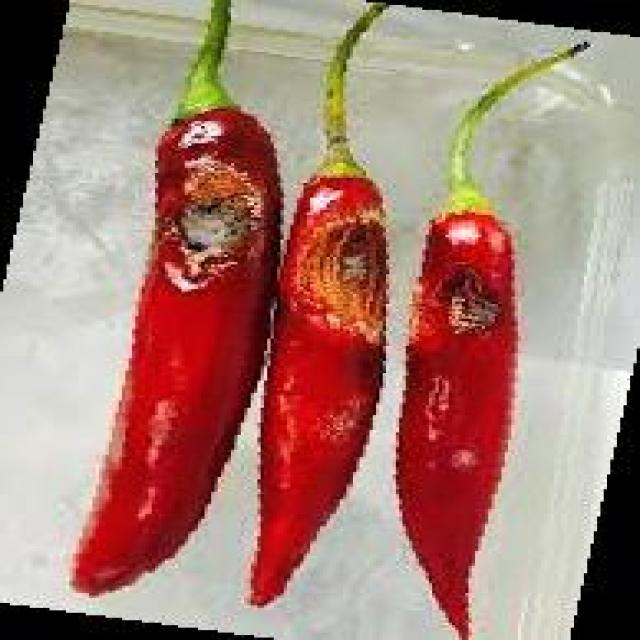Moko: (131, 130, 272, 300), (284, 189, 391, 349), (408, 281, 539, 340)
